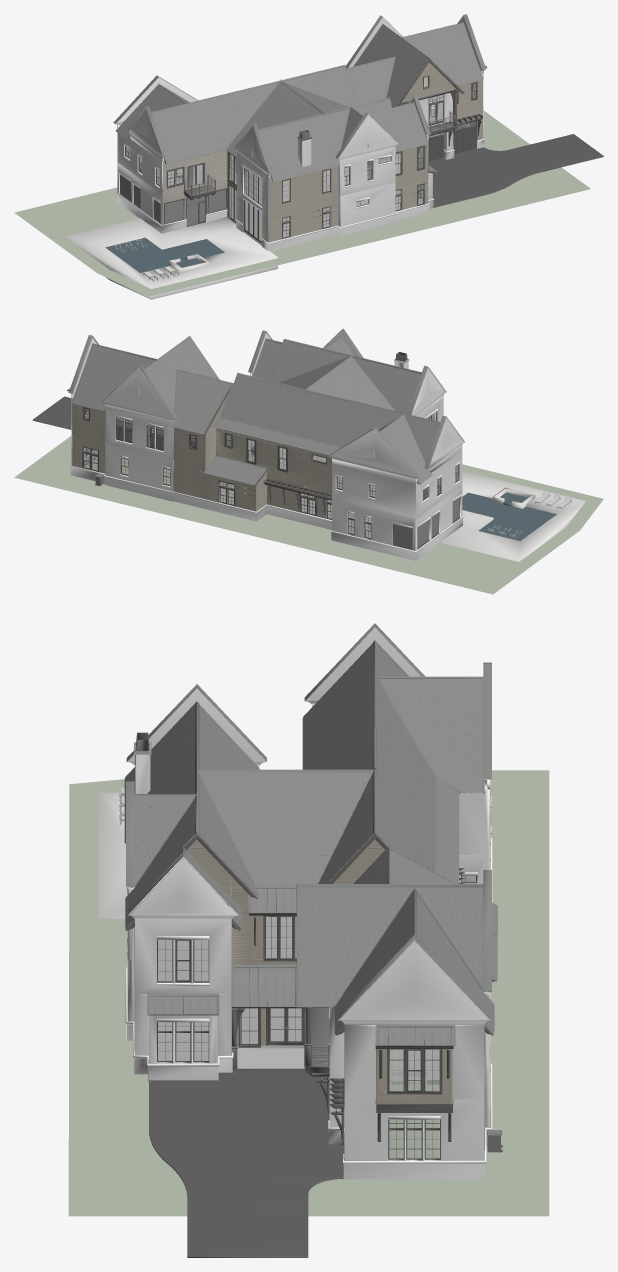
Rendered from homework.glb.
3 renders of one model, top to bottom at view 1: azimuth 30°, elevation 25°; view 2: azimuth 150°, elevation 25°; view 3: azimuth 270°, elevation 25°, orthographic. The views are drawn at different scales.
Parts seen in each view (by area): view 1: 1______011, 26_____014, 14_____011, 19_____011, 11_____011, 26_____013, 13_____011, 4______011, 20_____011, 21_____011, 0______011, 26_____012 (+8 smaller); view 2: 1______011, 14_____011, 26_____012, 19_____011, 26_____011, 26_____013, 11_____011, 4______011, 20_____011, 12_____011, 21_____011, 3______011 (+7 smaller); view 3: 14_____011, 1______011, 13_____011, 26_____012, 26_____013, 26_____014, 4______011, 26_____011, 21_____011, 10_____011, 5______011, 19_____011 (+5 smaller).
Part boxes in pixels (x1,y1,x2,y2): 1______011: (116,17,484,251); 26_____014: (152,66,428,195); 14_____011: (14,110,590,296); 19_____011: (162,62,482,242); 11_____011: (65,217,277,299); 26_____013: (347,23,483,106); 13_____011: (418,134,603,207); 4______011: (113,14,486,181); 20_____011: (119,71,476,243); 21_____011: (126,84,475,241); 0______011: (125,82,482,238); 26_____012: (226,82,348,157); 1______011: (70,330,463,560); 14_____011: (14,436,603,594); 26_____012: (172,340,421,440); 19_____011: (72,395,331,518); 26_____011: (204,386,439,484); 26_____013: (72,337,413,413); 11_____011: (440,471,585,561); 4______011: (67,328,464,485); 20_____011: (83,408,460,550); 12_____011: (462,492,556,540); 21_____011: (84,409,458,537); 3______011: (69,332,464,552); 14_____011: (68,770,549,1216); 1______011: (126,627,491,1179); 13_____011: (149,1069,344,1257); 26_____012: (197,705,497,935); 26_____013: (185,736,494,1034); 26_____014: (124,644,374,928); 4______011: (125,623,497,1045); 26_____011: (311,643,497,1065); 21_____011: (158,876,475,1158); 10_____011: (158,917,439,1081); 5______011: (126,792,496,1145); 19_____011: (187,839,452,1159).
Size of what is drawn, in the model's own units: 1.48 by 0.4029 by 0.6147.
